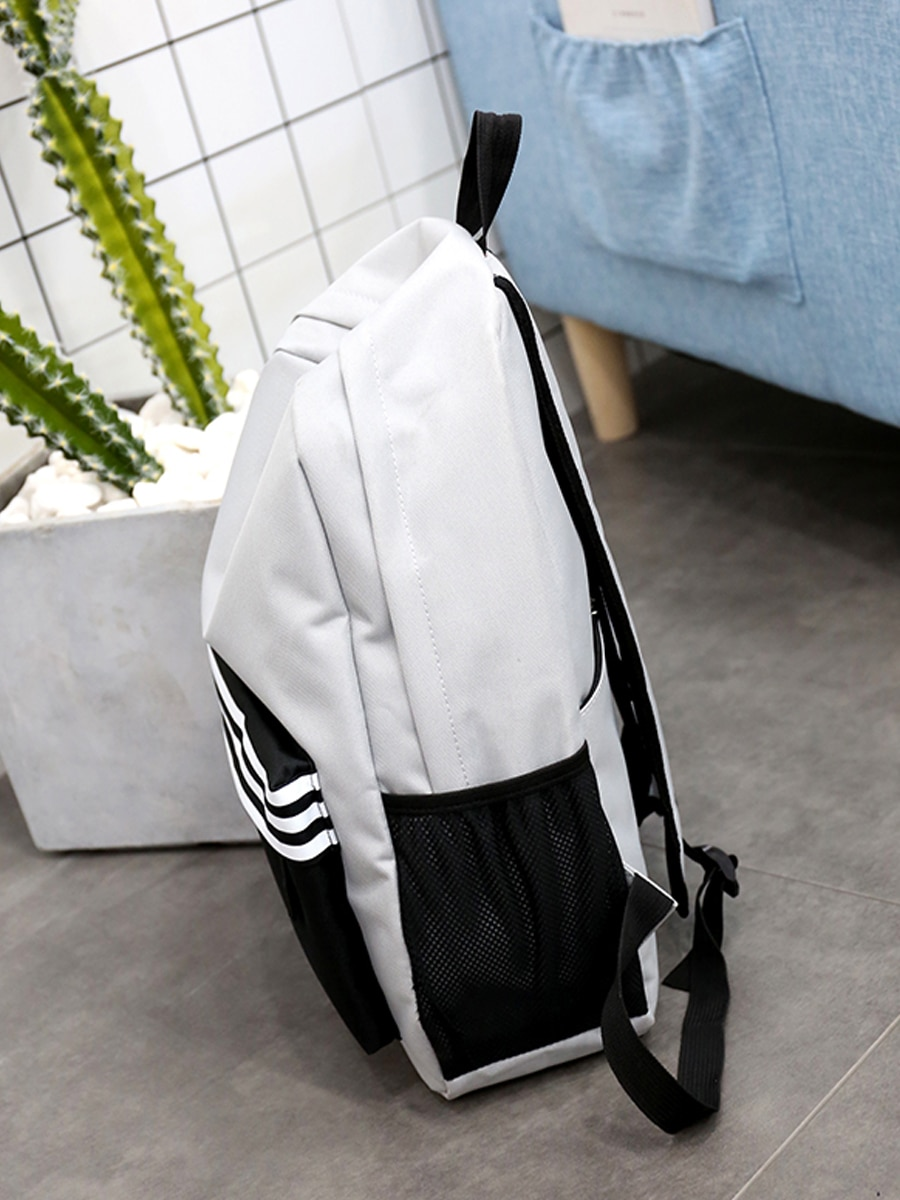Men's Backpacks: (188, 108, 750, 1137)
